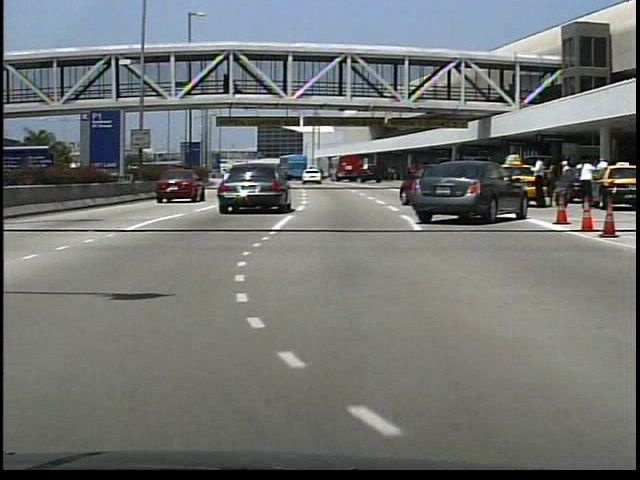person: (575, 159, 599, 211), (528, 155, 549, 214), (557, 159, 575, 208), (220, 75, 232, 99)
